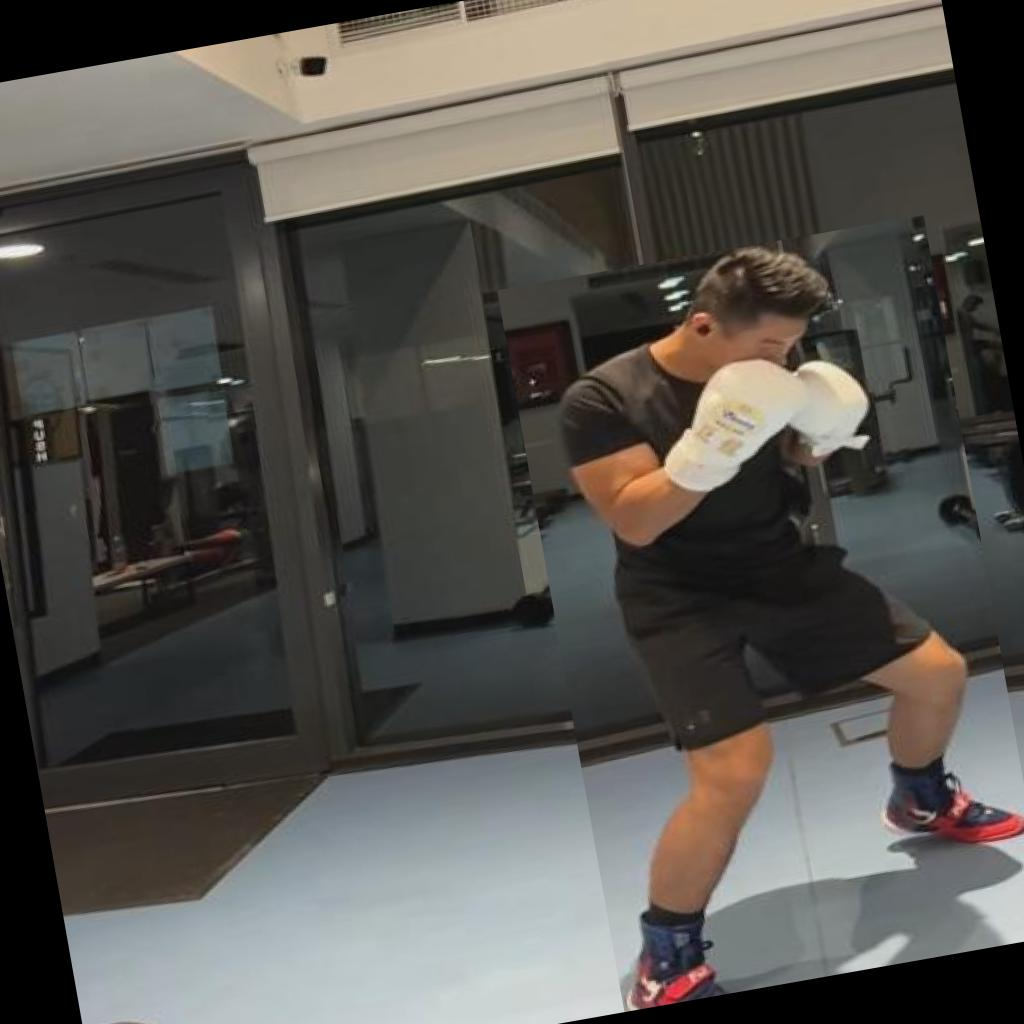no punch: (497, 215, 1024, 1012)
